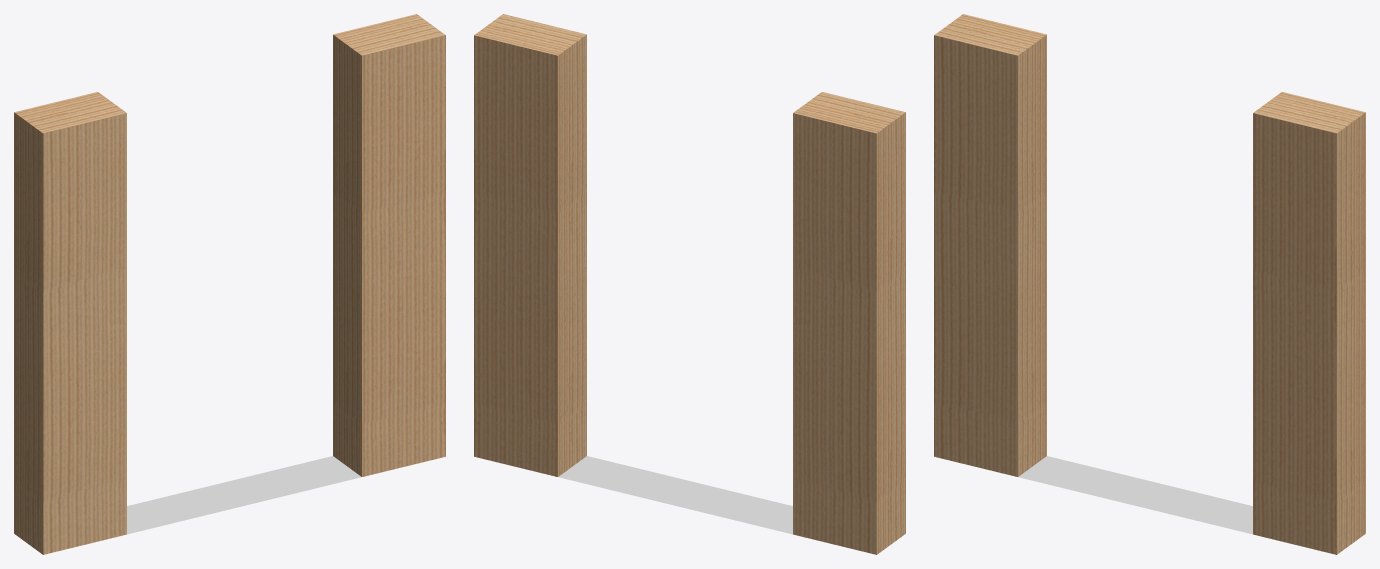
Rendered from doorway.fbx.
The picture shows the model from 3 angles, left to right: view 1: azimuth 30°, elevation 25°; view 2: azimuth 150°, elevation 25°; view 3: azimuth 330°, elevation 25°; orthographic projection.
Parts seen in each view (by area): view 1: wall_doorway; view 2: wall_doorway; view 3: wall_doorway.
Boxes of the visible parts, x1,y1,x2,y2 form: wall_doorway: (14, 14, 445, 554); wall_doorway: (474, 14, 905, 554); wall_doorway: (934, 14, 1365, 554).
Size of the model in its own units: 200 by 200 by 25.
